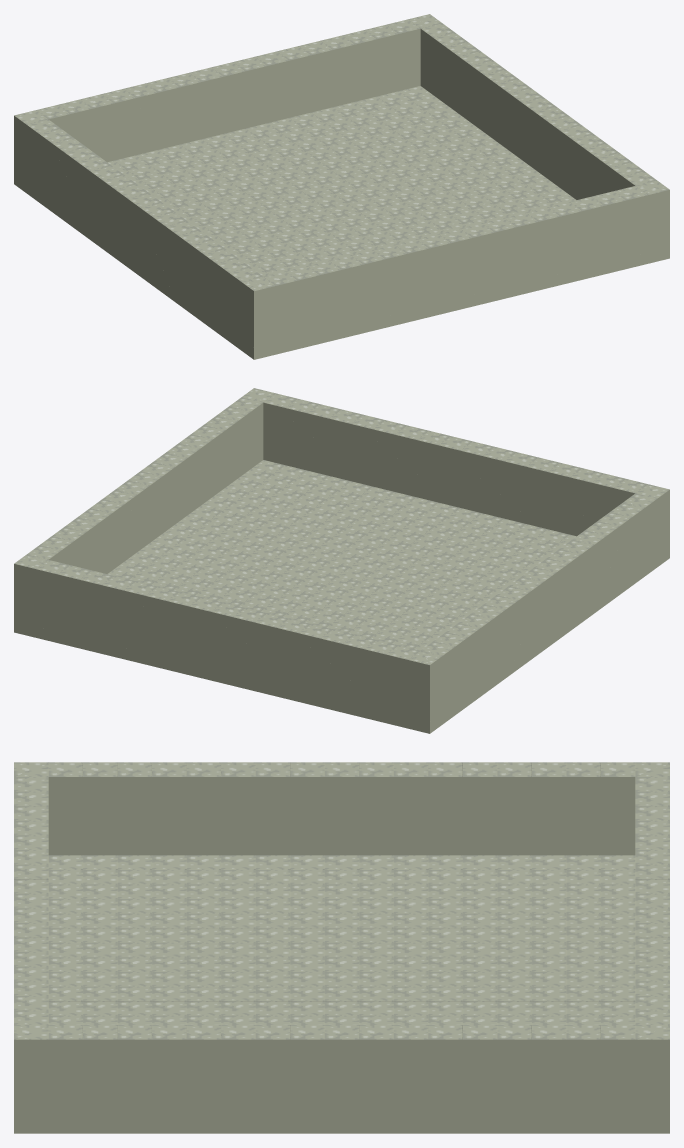
The model's file is cave1.obj.
3 renders of one model, top to bottom at view 1: azimuth 30°, elevation 25°; view 2: azimuth 150°, elevation 25°; view 3: azimuth 270°, elevation 25°, orthographic. The views are drawn at different scales.
Parts seen in each view (by area): view 1: Floor_Plane_Plane.002, Plane_Plane.004_Plane_Plane.000, Plane_Plane.007_Plane_Plane.000, Plane_Plane.006_Plane_Plane.000, Plane_Plane.005_Plane_Plane.000; view 2: Floor_Plane_Plane.002, Plane_Plane.007_Plane_Plane.000, Plane_Plane.004_Plane_Plane.000, Plane_Plane.006_Plane_Plane.000, Plane_Plane.005_Plane_Plane.000; view 3: Floor_Plane_Plane.002, Plane_Plane.005_Plane_Plane.000, Plane_Plane.006_Plane_Plane.000, Plane_Plane.007_Plane_Plane.000, Plane_Plane.004_Plane_Plane.000.
Part boxes in pixels (x1=…): Floor_Plane_Plane.002: x1=14, y1=86, x2=669, y2=359; Plane_Plane.004_Plane_Plane.000: x1=241, y1=180, x2=669, y2=348; Plane_Plane.007_Plane_Plane.000: x1=14, y1=14, x2=441, y2=181; Plane_Plane.006_Plane_Plane.000: x1=14, y1=115, x2=275, y2=346; Plane_Plane.005_Plane_Plane.000: x1=409, y1=19, x2=669, y2=252; Floor_Plane_Plane.002: x1=14, y1=460, x2=669, y2=733; Plane_Plane.007_Plane_Plane.000: x1=14, y1=555, x2=442, y2=721; Plane_Plane.004_Plane_Plane.000: x1=242, y1=388, x2=669, y2=555; Plane_Plane.006_Plane_Plane.000: x1=408, y1=484, x2=669, y2=722; Plane_Plane.005_Plane_Plane.000: x1=14, y1=388, x2=275, y2=626; Floor_Plane_Plane.002: x1=14, y1=855, x2=669, y2=1133; Plane_Plane.005_Plane_Plane.000: x1=14, y1=1025, x2=669, y2=1117; Plane_Plane.006_Plane_Plane.000: x1=14, y1=762, x2=668, y2=855; Plane_Plane.007_Plane_Plane.000: x1=635, y1=762, x2=669, y2=1117; Plane_Plane.004_Plane_Plane.000: x1=14, y1=762, x2=48, y2=1117.
Size of the model in its own units: 19 by 3 by 19.
